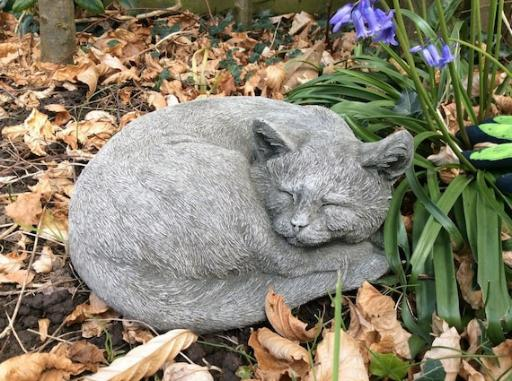cat_sleeping: (69, 97, 413, 334)
